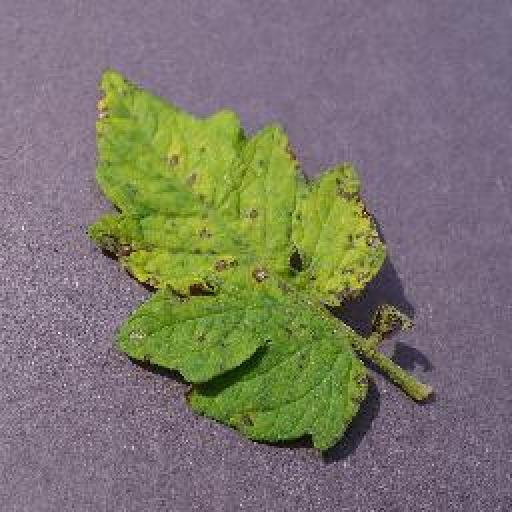Septoria: (88, 68, 386, 448)
